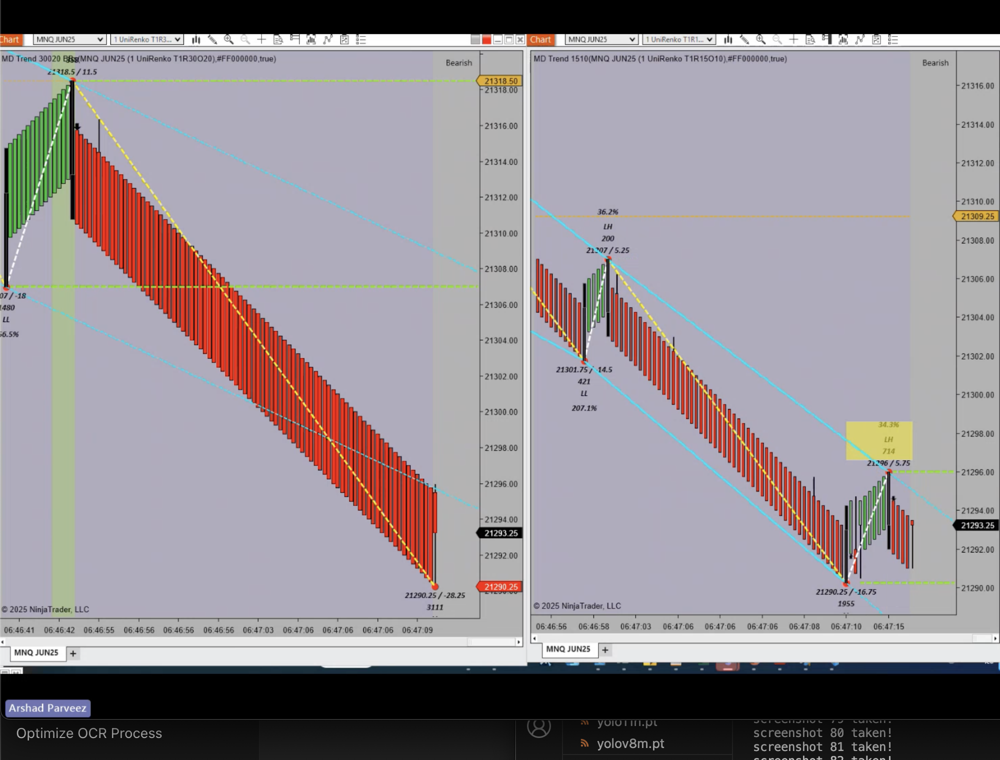LH: (596, 218, 627, 236), (877, 431, 904, 447)
LL: (570, 385, 597, 399), (1, 313, 16, 327)
